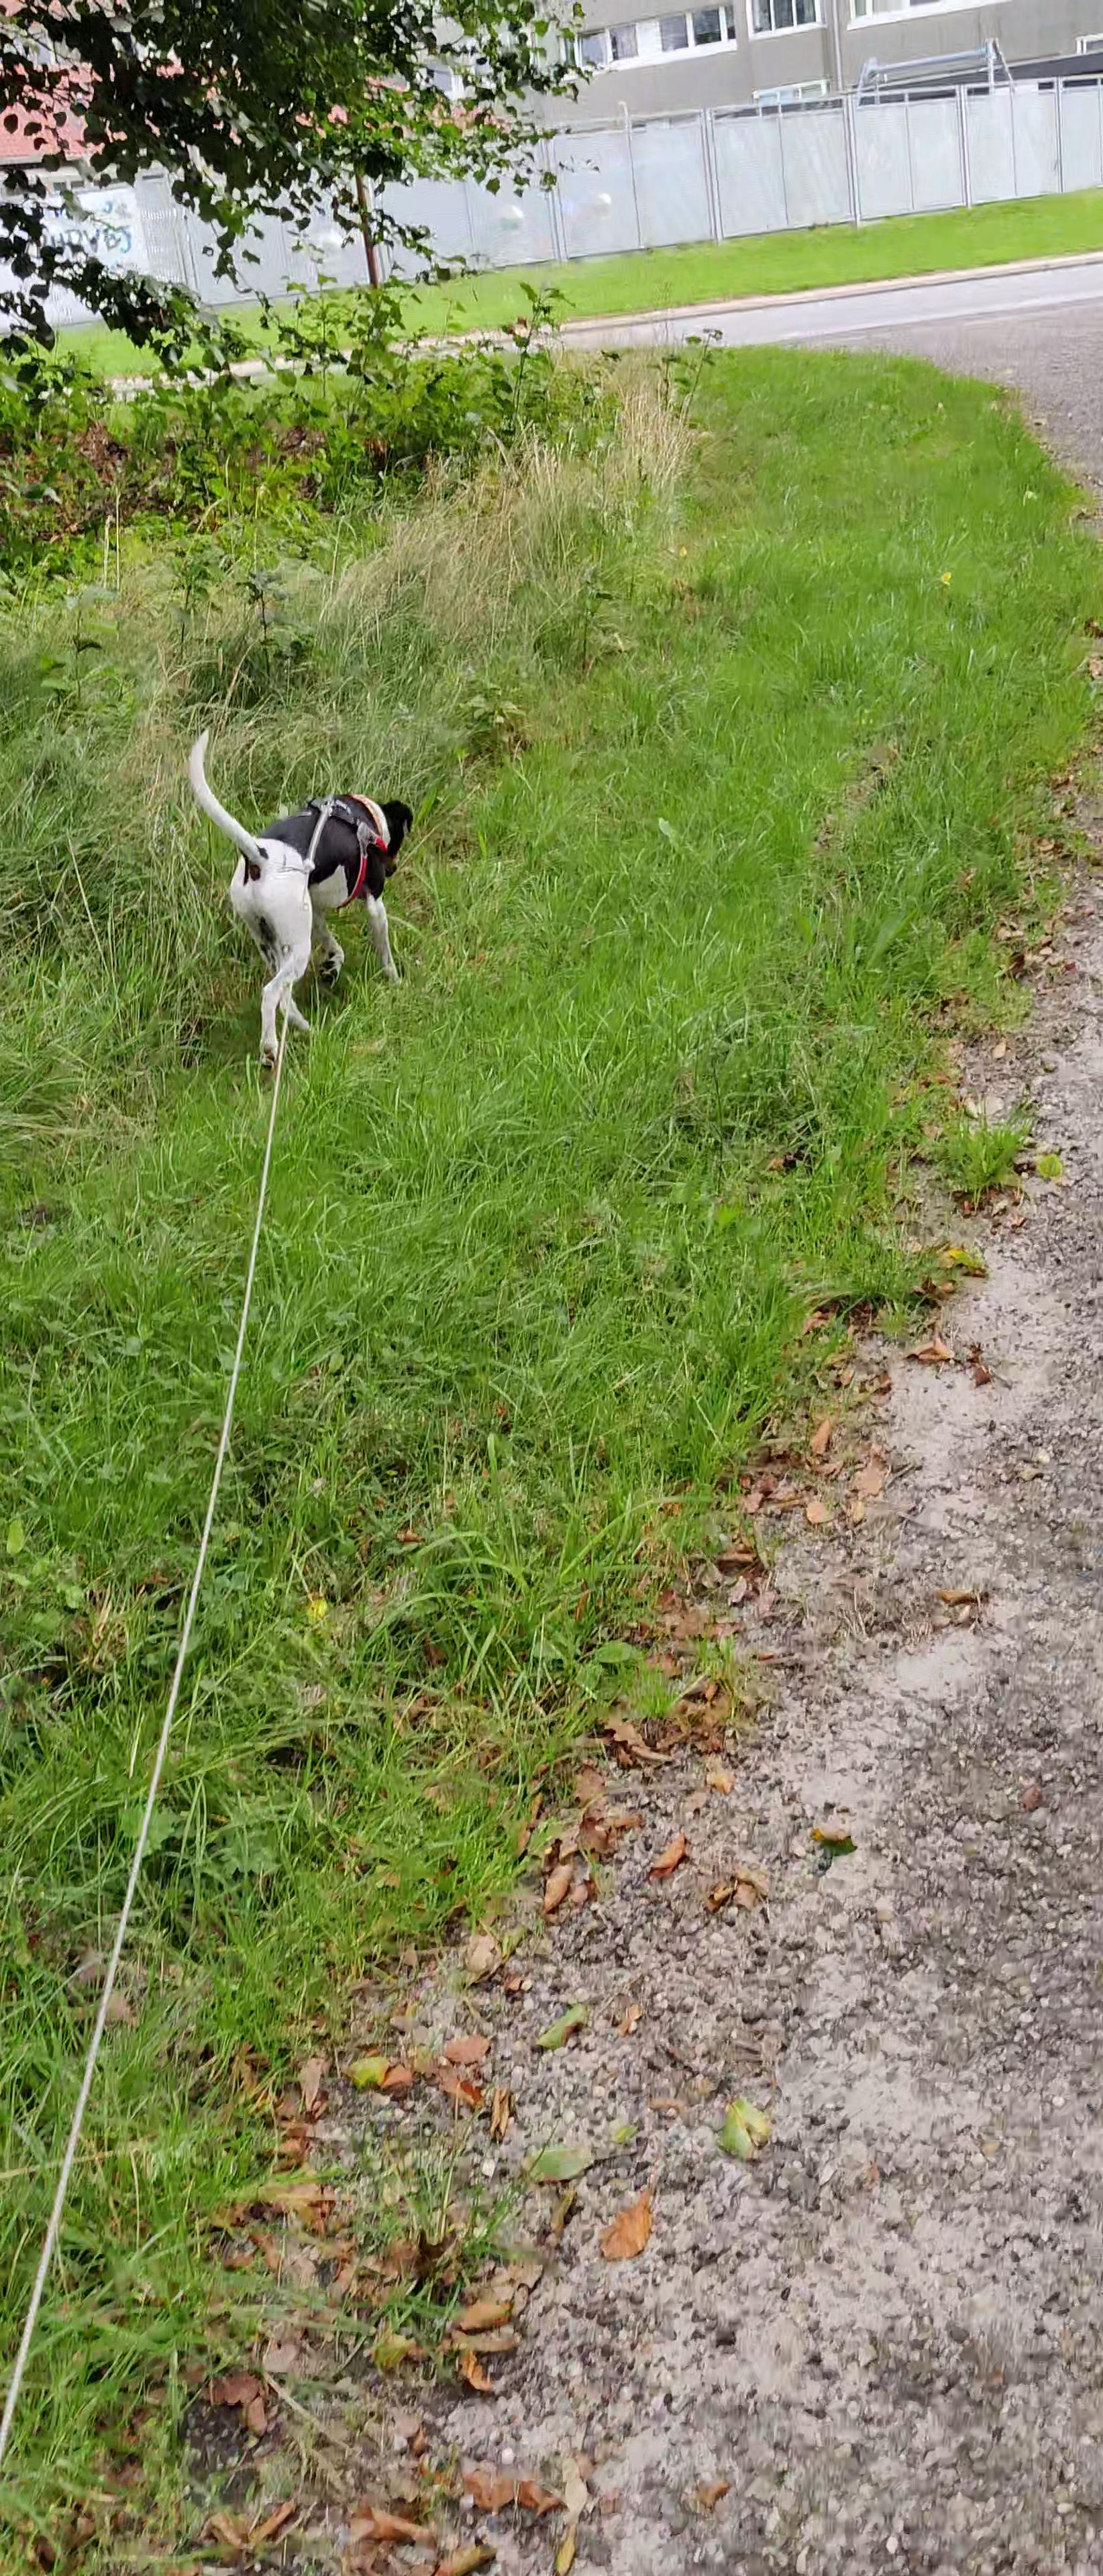Dog: (179, 723, 419, 1073)
